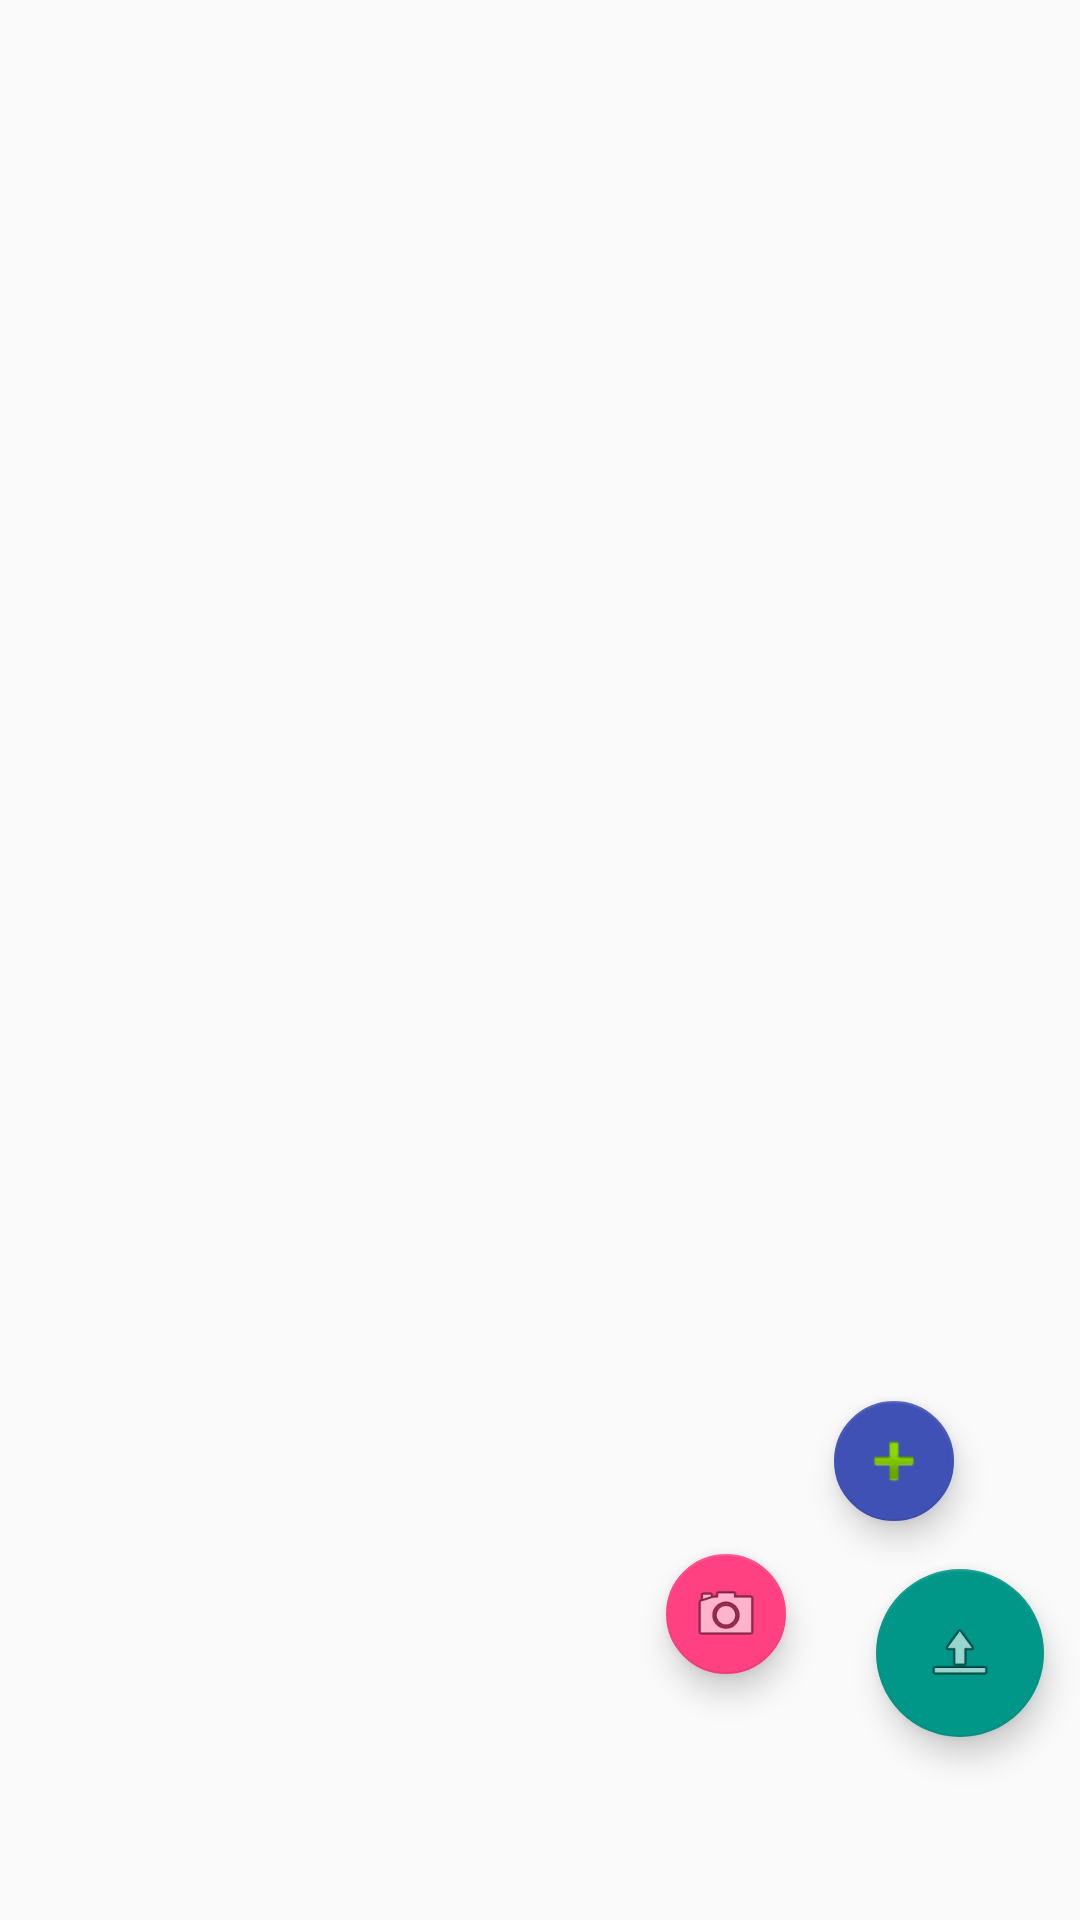

Icons on this 1080 × 1920 Android screen, each with the point to tap as (x=x, y=y):
add: (x=894, y=1461)
camera: (x=726, y=1614)
upload: (x=960, y=1653)
